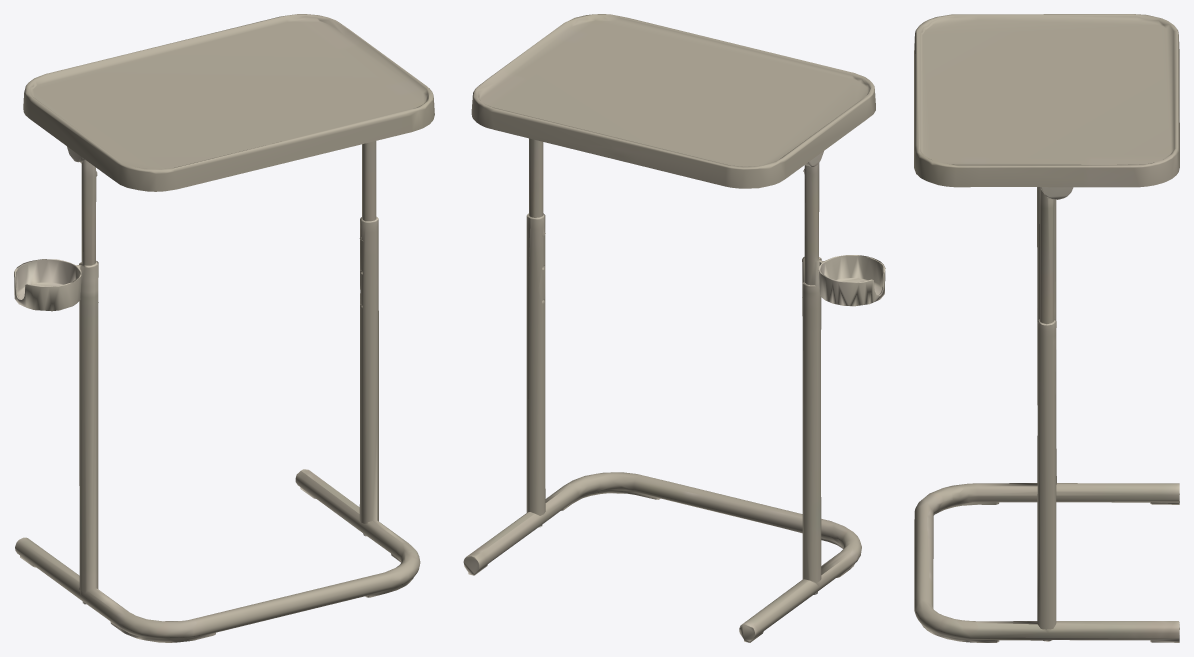
File: 33 - BJÖRKÅSEN - 筆記型電腦桌, 米色 IKEA 線上購物.glb
3 renders of one model, left to right at view 1: azimuth 30°, elevation 25°; view 2: azimuth 150°, elevation 25°; view 3: azimuth 270°, elevation 25°, orthographic. The views are drawn at different scales.
Visible parts, largest first — view 1: ProcessedMeshNode; view 2: ProcessedMeshNode; view 3: ProcessedMeshNode.
Part boxes in pixels (<box>): ProcessedMeshNode: <box>14,14,434,642</box>; ProcessedMeshNode: <box>463,14,885,642</box>; ProcessedMeshNode: <box>914,14,1179,642</box>.
Bounding box in the file's own units: 0.5627 × 0.7019 × 0.3502.
1 material, 1 textured.
